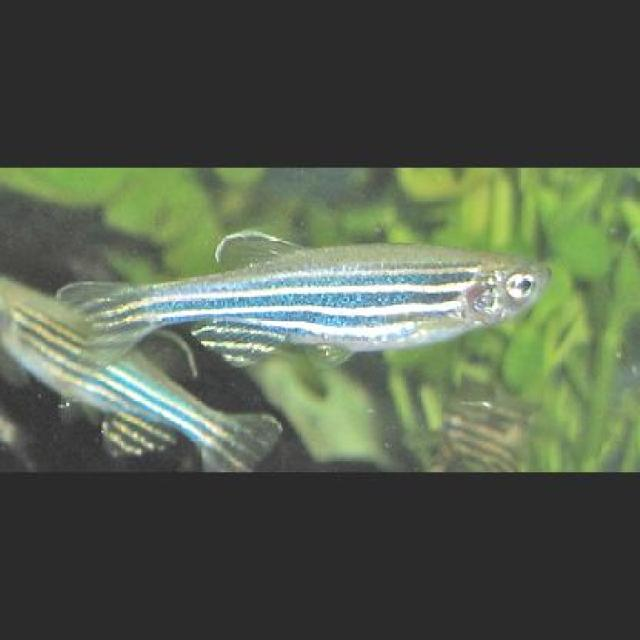ZebraFish: (59, 228, 556, 369)
